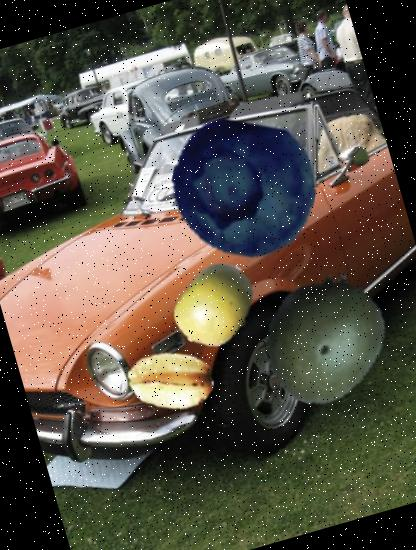Carambula: (117, 326, 225, 434)
Huckleberry: (154, 99, 333, 278)
Mango: (242, 255, 408, 421)
Pomelo: (161, 250, 270, 360)
